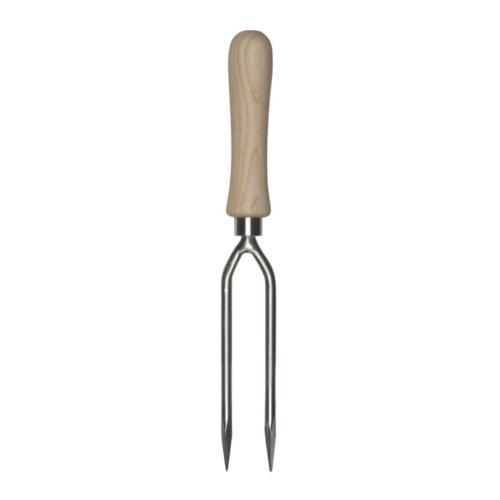Fork: (176, 19, 325, 479)
